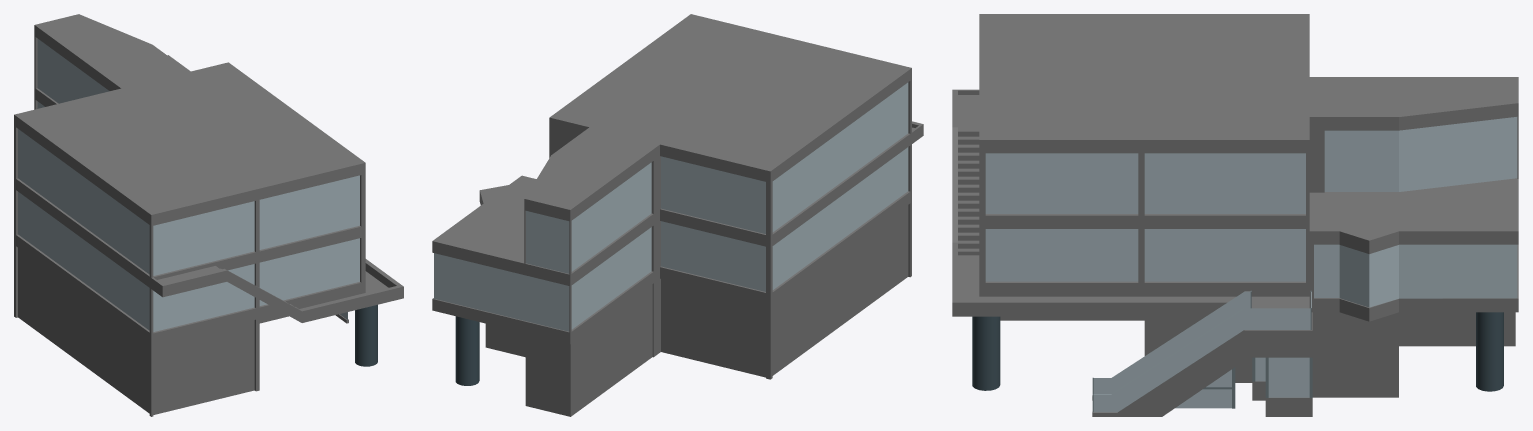
Rendered from BuildingC2.fbx.
3 views of the same model, side by side, from view 1: azimuth 30°, elevation 25°; view 2: azimuth 150°, elevation 25°; view 3: azimuth 270°, elevation 25° (orthographic). The views are drawn at different scales.
Visible parts, largest first — view 1: BuildingC; view 2: BuildingC; view 3: BuildingC.
Part boxes in pixels (x1,y1,x2,y2): BuildingC: [14, 14, 403, 416]; BuildingC: [432, 14, 923, 416]; BuildingC: [952, 14, 1518, 416].
Bounding box in the file's own units: 12.7 × 19.02 × 9.
